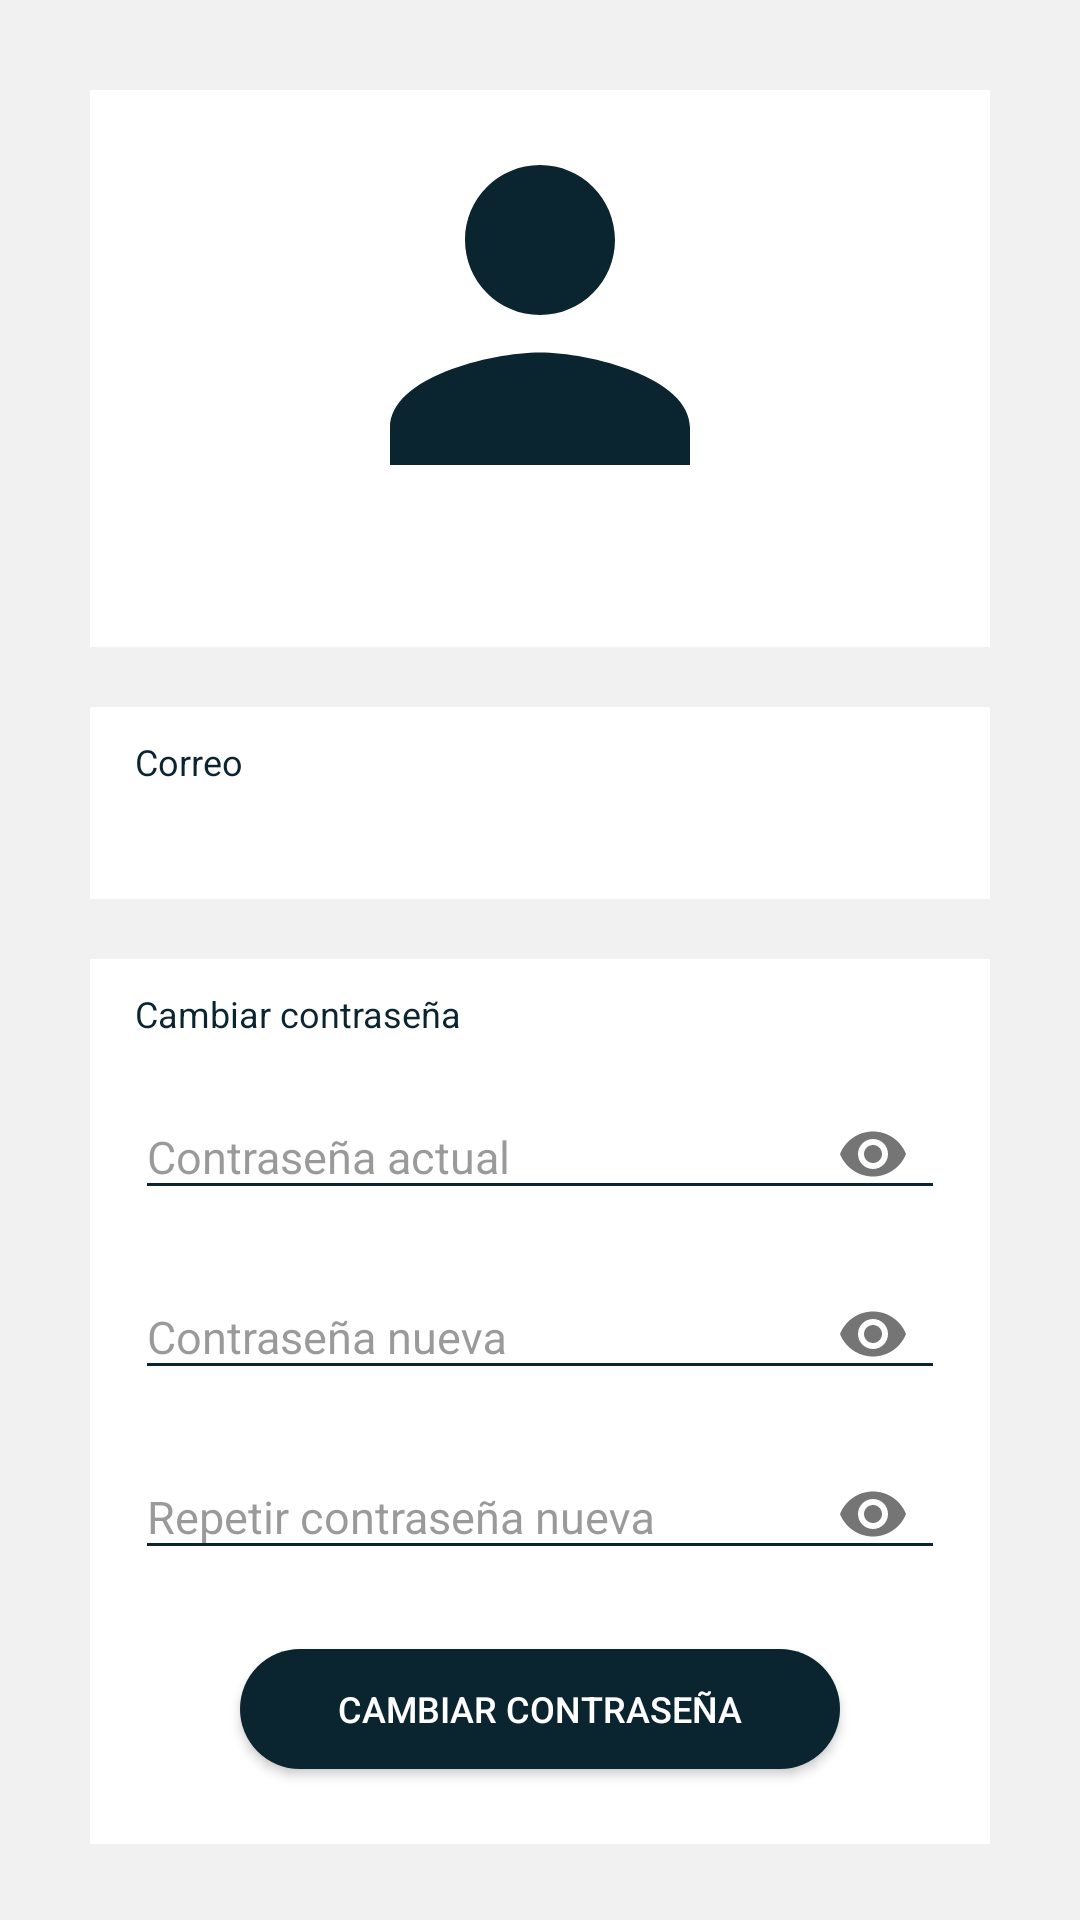

Icon click points for this 1080 × 1920 phone screenshot, format (x=x, y=y):
person: (x=540, y=315)
